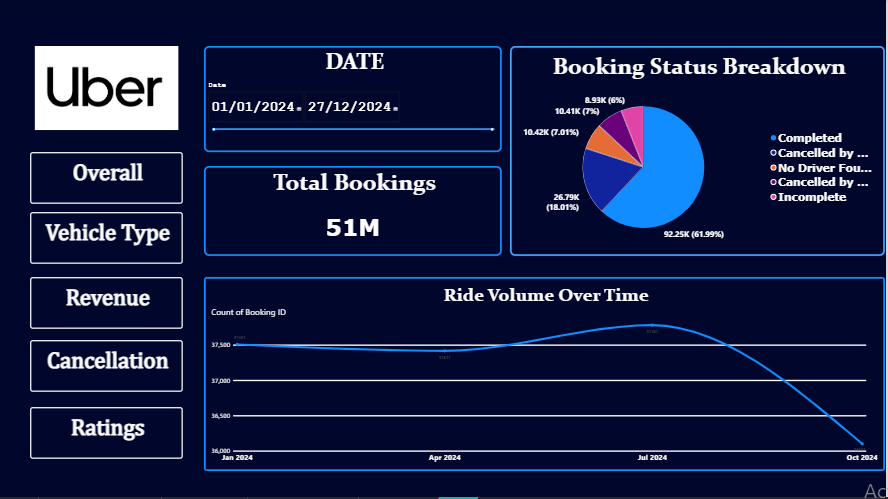

The dashboard page shown, as its layout file describes it:
{"tool":"powerbi","page":{"name":"Overall","canvas":[2560,1440],"ordinal":0},"visuals":[{"type":"actionButton","title":"Overall","box":[87.8,442.4,442.4,150.4],"z":0},{"type":"actionButton","title":"Vehicle Type","box":[87.8,614.7,442.4,150.4],"z":1000},{"type":"actionButton","title":"Revenue","box":[87.8,803.8,442.4,150.4],"z":2000},{"type":"actionButton","title":"Cancellation","box":[87.8,986.2,442.4,150.4],"z":3000},{"type":"actionButton","title":"Ratings","box":[87.8,1178.7,442.4,150.4],"z":4000},{"type":"image","box":[87.8,135.1,442.4,242.9],"z":5000},{"type":"slicer","title":"DATE","fields":{"Values":["ncr_ride_bookings (3).Date"]},"box":[589.9,135.9,861.2,307.3],"z":6000},{"type":"cardVisual","title":"Total Bookings","fields":{"Data":["Sum(ncr_ride_bookings (3).Booking Value)"]},"box":[591,483,861.2,260.1],"z":7000},{"type":"pieChart","title":"Booking Status Breakdown","fields":{"Category":["ncr_ride_bookings (3).Booking Status"],"Y":["CountNonNull(ncr_ride_bookings (3).Booking Status)"]},"box":[1474.7,135.9,1084.3,607.2],"z":8000},{"type":"lineChart","title":"Ride Volume Over Time","fields":{"Category":["ncr_ride_bookings (3).Date.Variation.Date Hierarchy.Year","ncr_ride_bookings (3).Date.Variation.Date Hierarchy.Quarter","ncr_ride_bookings (3).Date.Variation.Date Hierarchy.Month","ncr_ride_bookings (3).Date.Variation.Date Hierarchy.Day"],"Y":["CountNonNull(ncr_ride_bookings (3).Booking ID)"]},"box":[589.9,803.9,1969.2,561],"z":9000}]}

Visuals, with their boxes in screenshot pixels (x1, y1, x2, y2), scaled from the page's 2560x1440 canvas onto the 888x499 screenshot:
"Overall" actionButton: <box>30,153,184,205</box>
"Vehicle Type" actionButton: <box>30,213,184,265</box>
"Revenue" actionButton: <box>30,279,184,331</box>
"Cancellation" actionButton: <box>30,342,184,394</box>
"Ratings" actionButton: <box>30,408,184,461</box>
image: <box>30,47,184,131</box>
"DATE" slicer: <box>205,47,503,154</box>
"Total Bookings" cardVisual: <box>205,167,504,258</box>
"Booking Status Breakdown" pieChart: <box>512,47,887,258</box>
"Ride Volume Over Time" lineChart: <box>205,279,887,473</box>
